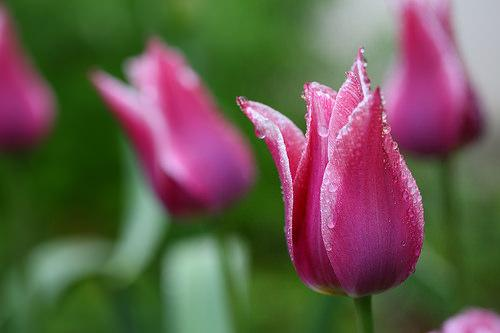tulip: (237, 44, 426, 299), (200, 153, 200, 153)
